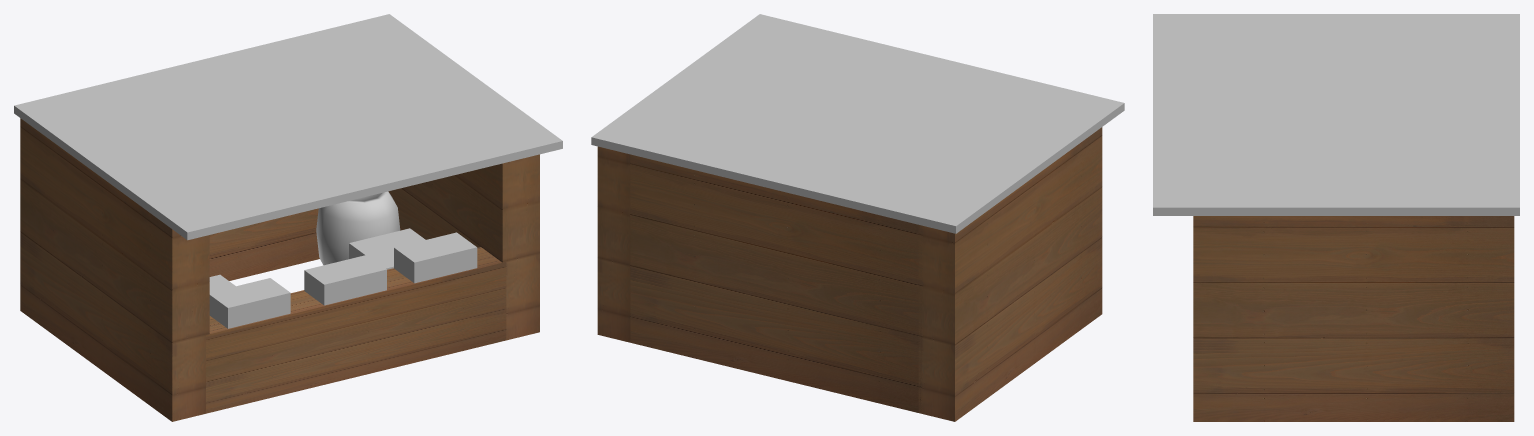
The model's file is roten3.FBX.
3 renders of one model, left to right at view 1: azimuth 30°, elevation 25°; view 2: azimuth 150°, elevation 25°; view 3: azimuth 270°, elevation 25°, orthographic. The views are drawn at different scales.
Visible parts, largest first — view 1: Box005, Box004, Box001, Box003, Box002, Barrel, Food_a001, Food_b, Food_a, Crate001; view 2: Box005, Box002, Box004, Box003; view 3: Box005, Box003.
Boxes of the visible parts, x1,y1,x2,y2 form: Box005: (14, 14, 562, 240); Box004: (20, 118, 209, 421); Box001: (206, 247, 506, 413); Box003: (388, 154, 539, 340); Box002: (209, 208, 319, 280); Barrel: (316, 191, 400, 265); Food_a001: (394, 232, 477, 283); Food_b: (304, 255, 386, 305); Food_a: (209, 278, 290, 328); Crate001: (349, 228, 425, 269); Box005: (591, 14, 1124, 233); Box002: (630, 154, 922, 412); Box004: (918, 127, 1102, 421); Box003: (597, 146, 632, 342); Box005: (1153, 14, 1519, 215); Box003: (1193, 216, 1514, 421).
Bounding box in the file's own units: 5 × 2.6 × 4.
